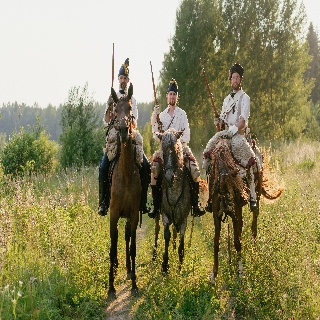rifle: (200, 66, 224, 132), (148, 61, 166, 136), (109, 42, 118, 125)
